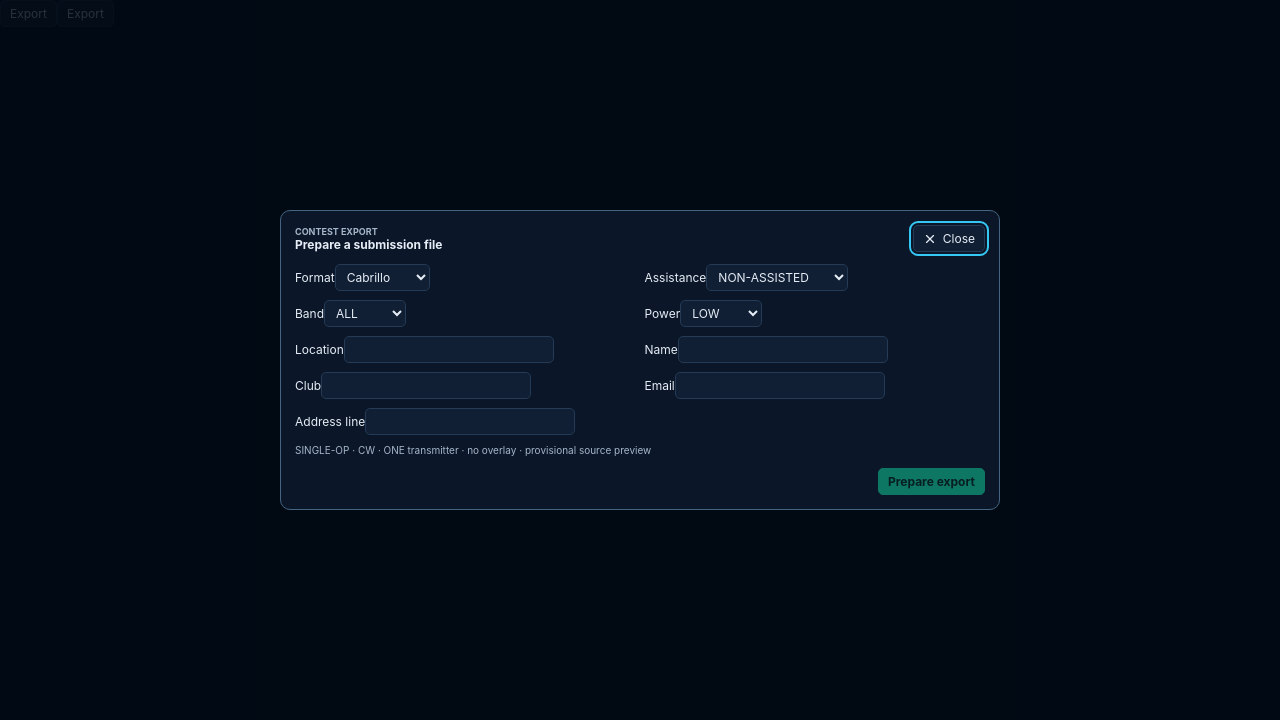
Test case: uses fixed preview categories, prepares once, and shows a compact non-sensitive summary
The image size is (1280, 720).
Type "DX" into the field labelled "Location".
click(449, 350); type("DX")  # box left=344, top=336, right=554, bottom=363
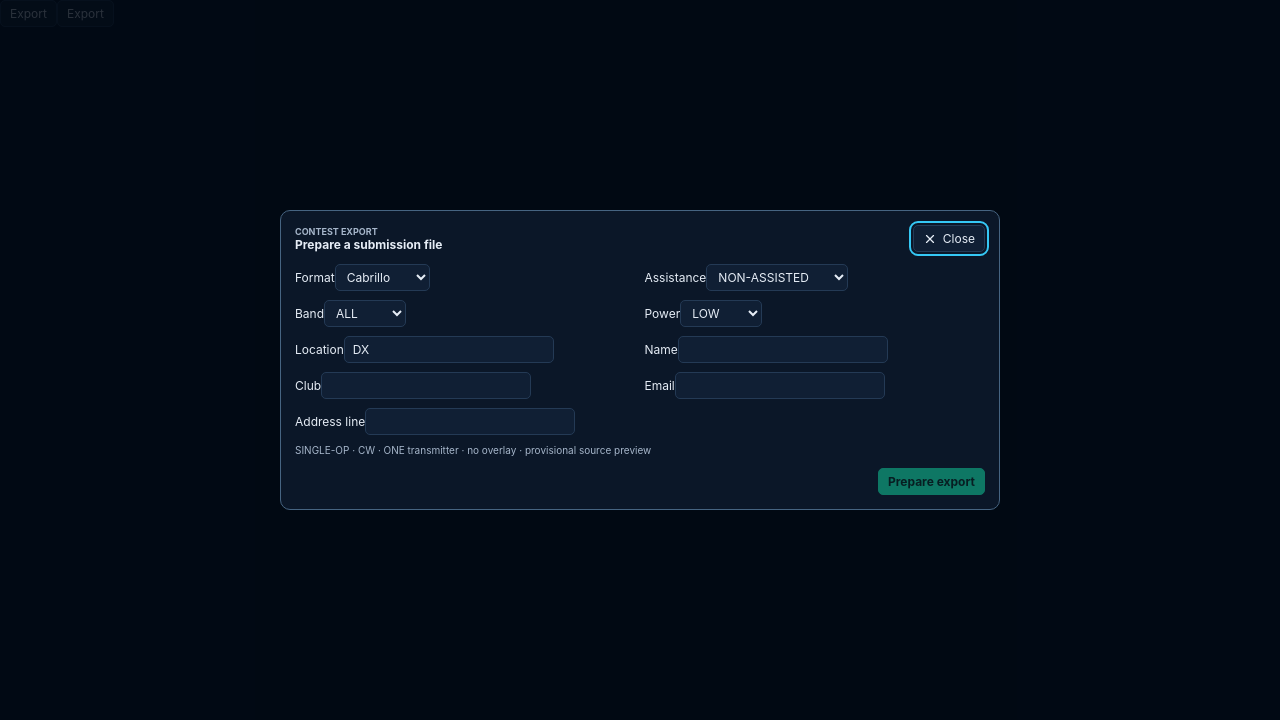
Type "Operator" into the field labelled "Name".
click(783, 350); type("Operator")  # box left=678, top=336, right=888, bottom=363
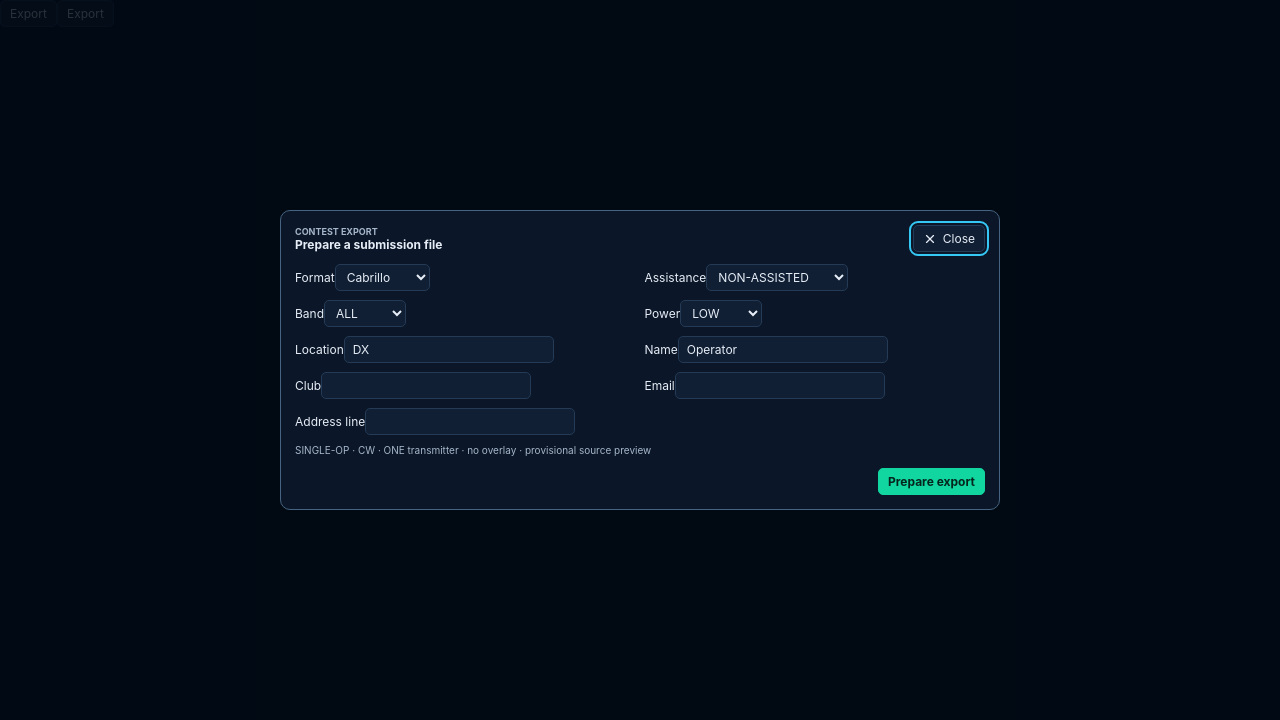
Click the button "Prepare export".
click(931, 482)  # box left=878, top=468, right=985, bottom=495
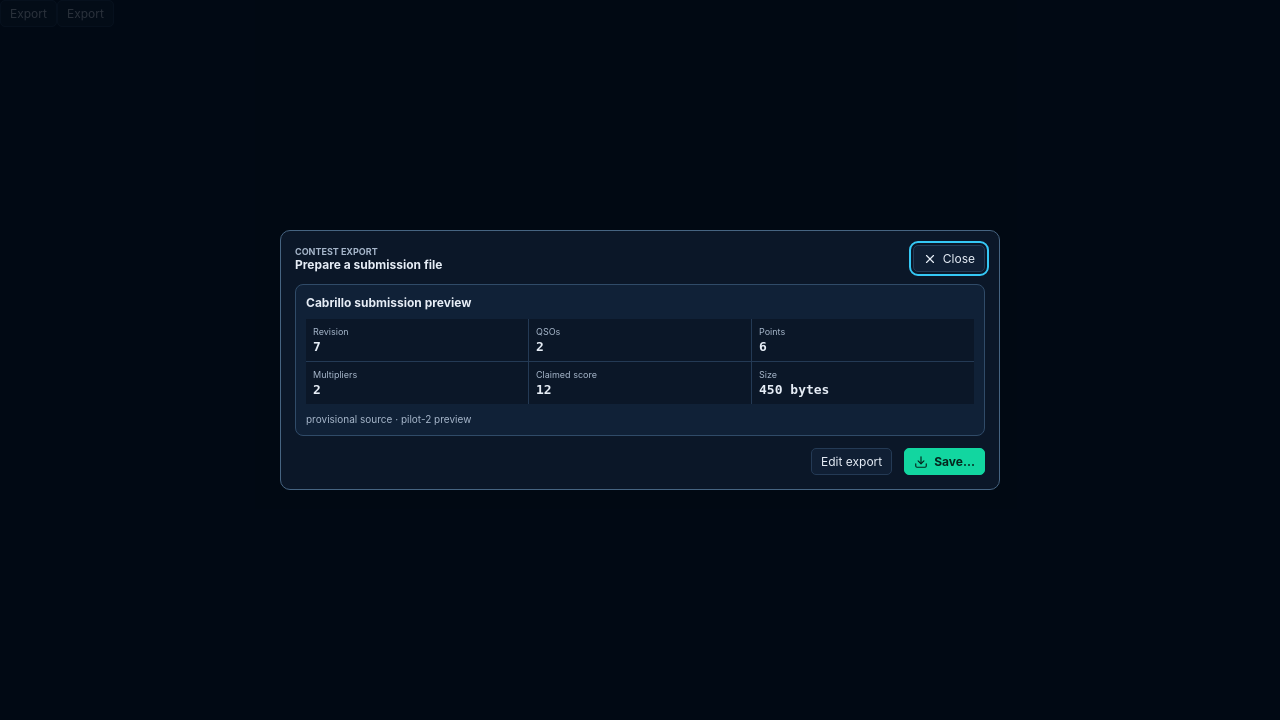
Check: the element named "Prepared export summary" is shown, box left=295, top=284, right=985, bottom=436
Check: the text "7" is shown, box left=313, top=339, right=321, bottom=354
